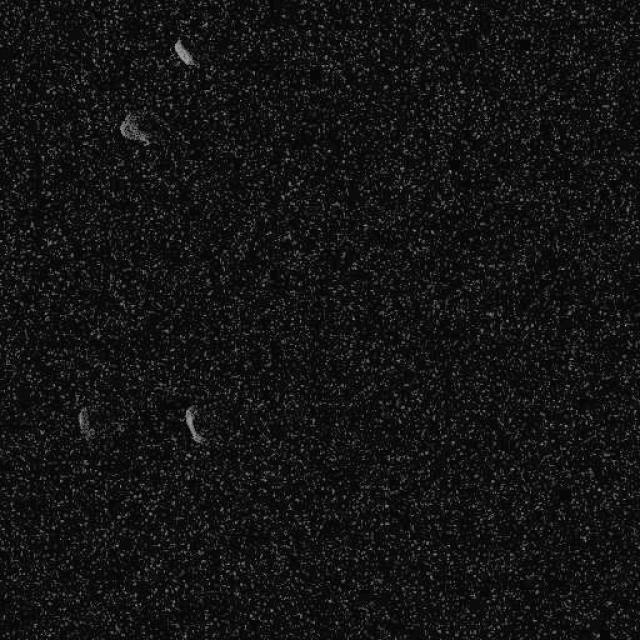D2: (118, 110, 152, 146), (182, 403, 206, 445), (171, 36, 199, 68), (76, 405, 94, 441)
